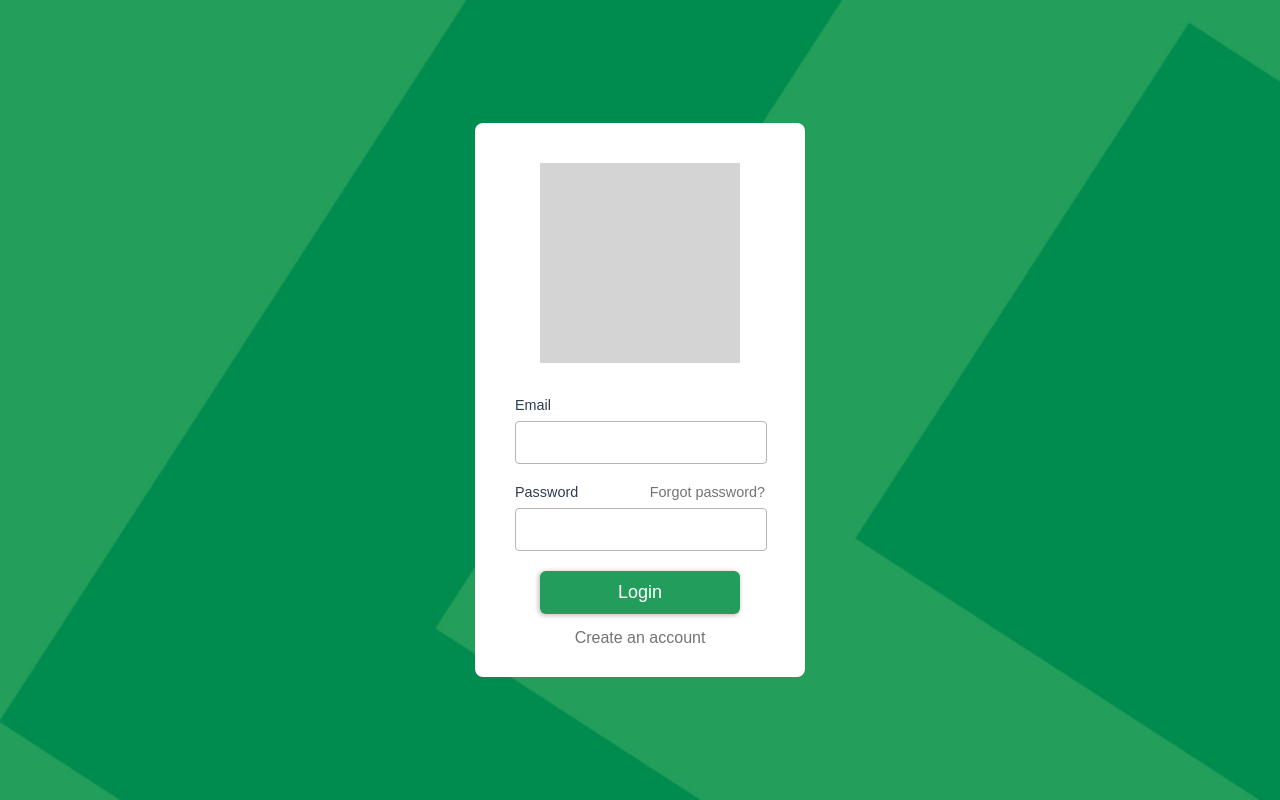
Test case: Login › should alert on input if no password was inserted
The width and height of the screenshot is (1280, 800).
In the field named "username": (641,443) [515,421,767,464], type "fake@email.com"
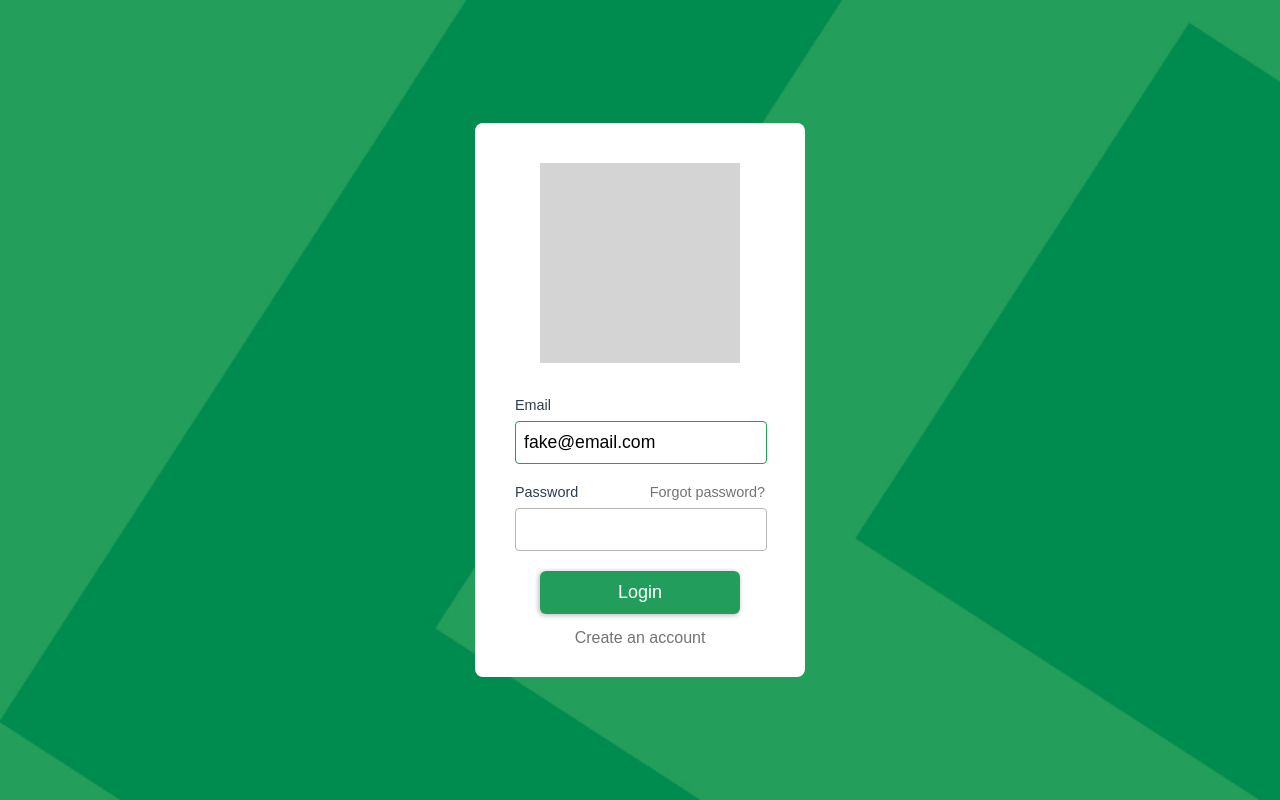
Click the button with class "t-button": (640,593) [540,571,740,614]
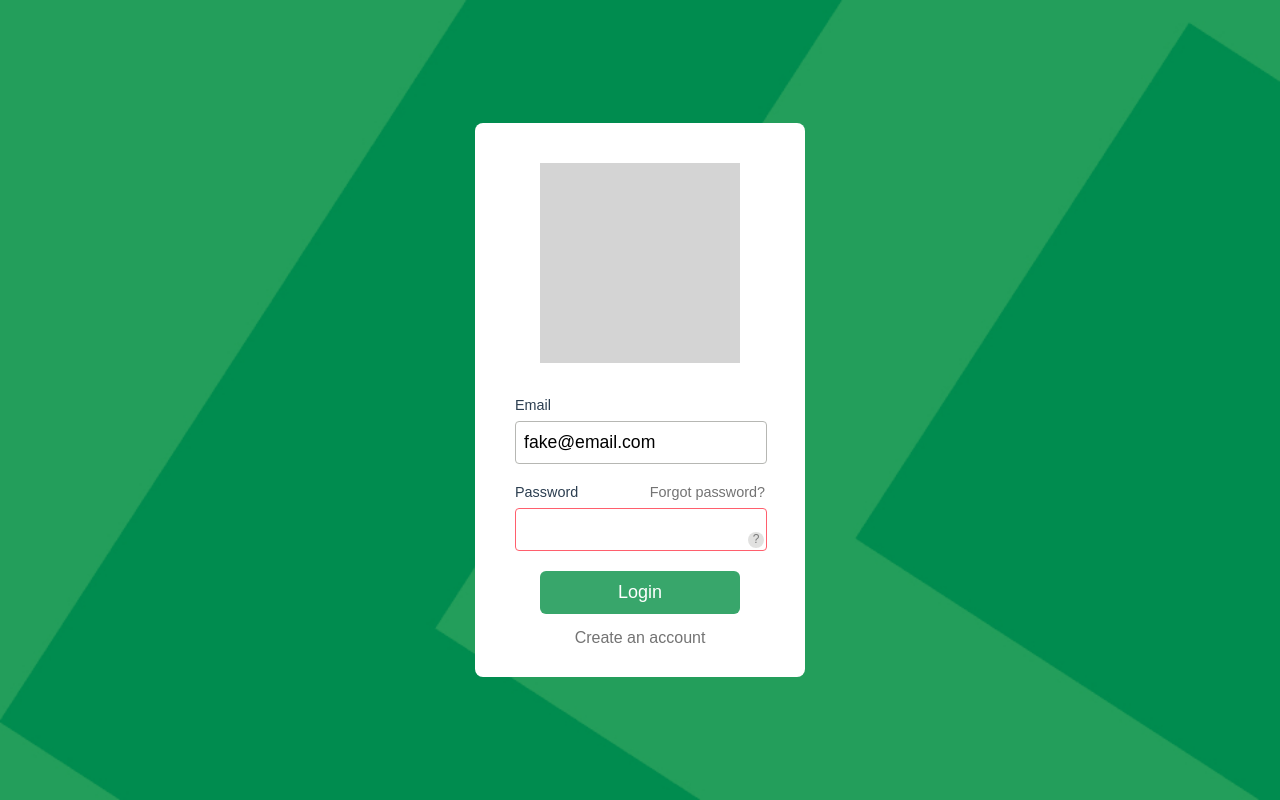
Now the password field with class "t-input__input--error" is shown, box [515,508,767,551]
